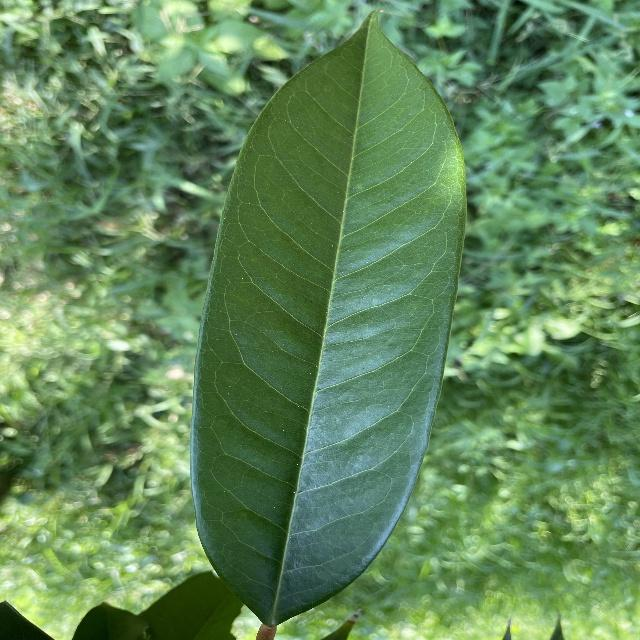No Disease: (181, 15, 473, 635)
